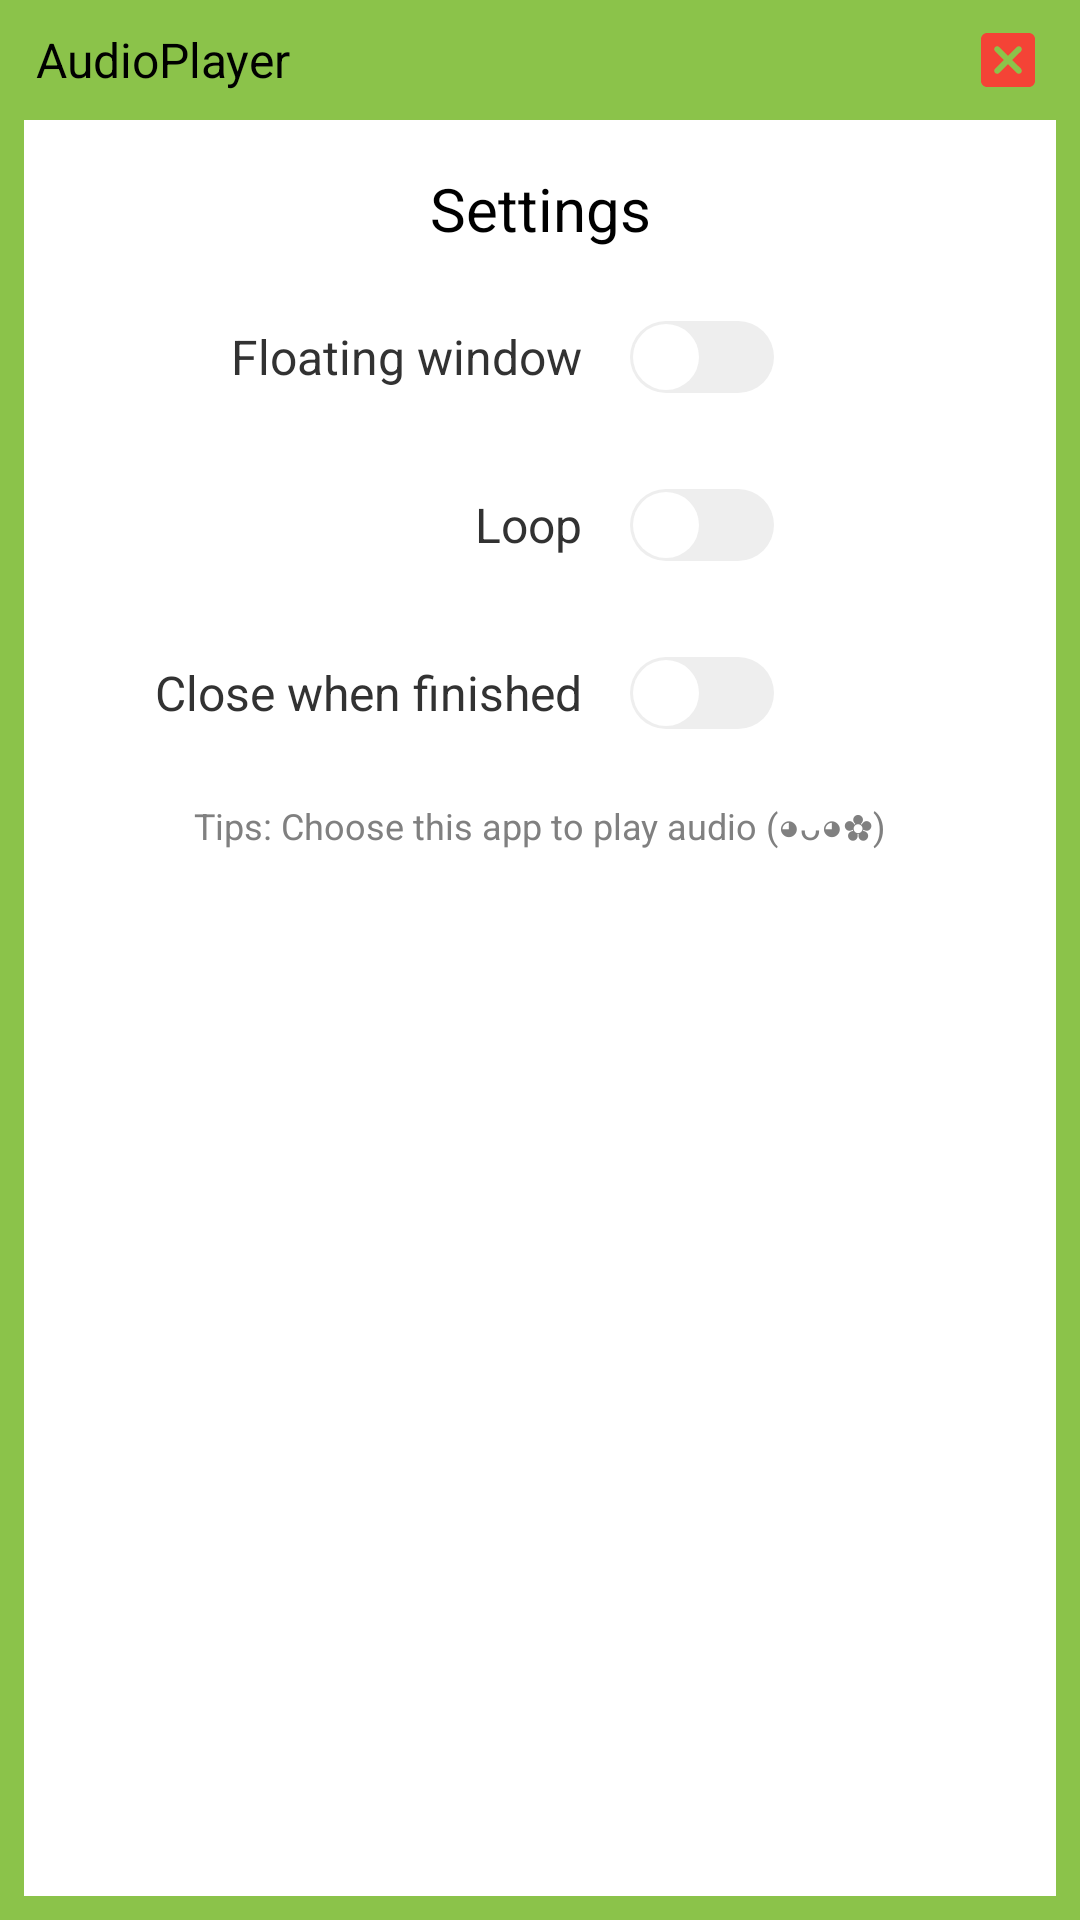

Point at icon controls on the screen. Image size 1080*1920, points as point (x, y).
close: point (1008, 60)
